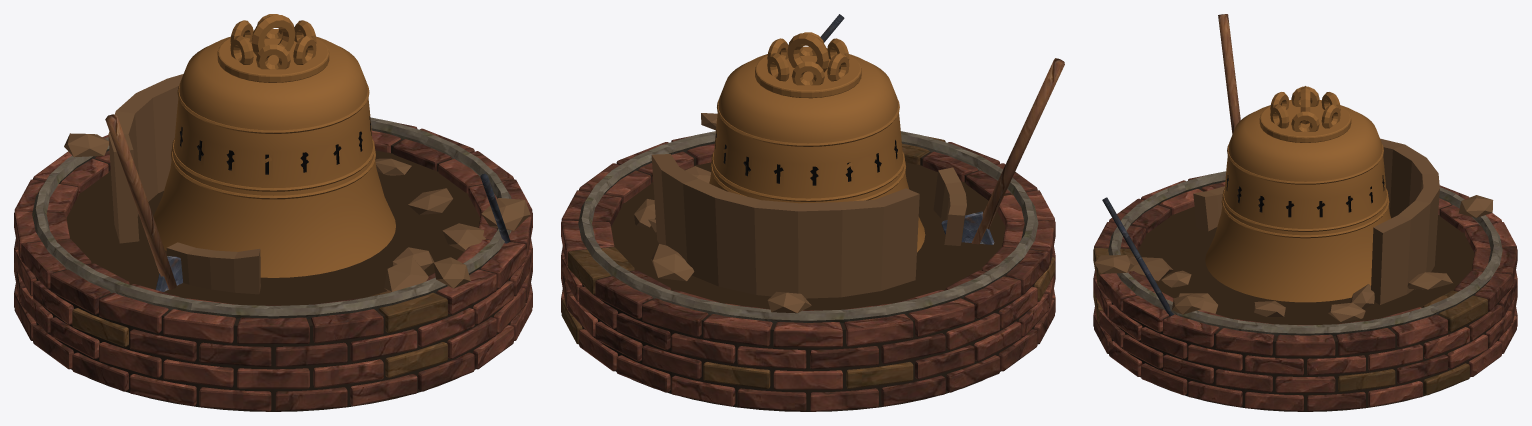
Rendered from cf_bell_pit.glb.
The picture shows the model from 3 angles, left to right: view 1: azimuth 30°, elevation 25°; view 2: azimuth 150°, elevation 25°; view 3: azimuth 270°, elevation 25°; orthographic projection. The views are drawn at different scales.
Visible parts, largest first — view 1: model; view 2: model; view 3: model.
Boxes of the visible parts, x1,y1,x2,y2 form: model: (14,14,532,411); model: (561,14,1064,411); model: (1093,14,1517,411).
Bounding box in the file's own units: 1.8 × 1.11 × 1.79.
Materials: 15 (10 with a texture image).
